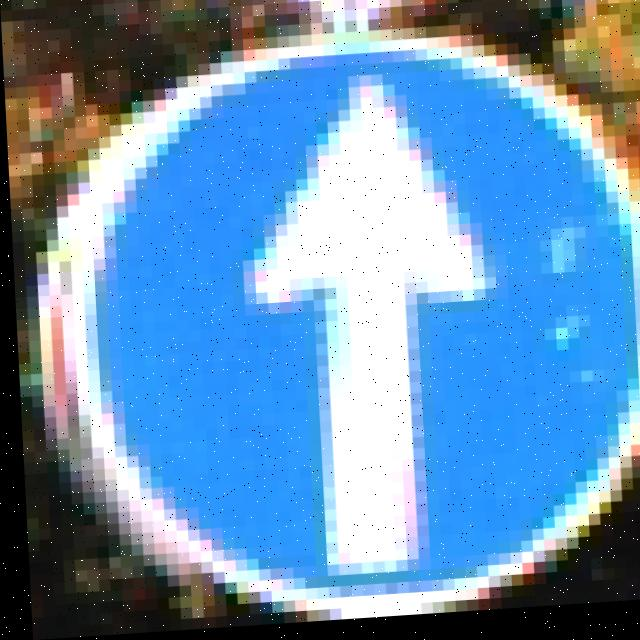compulsory_ahead: (26, 12, 640, 627)
